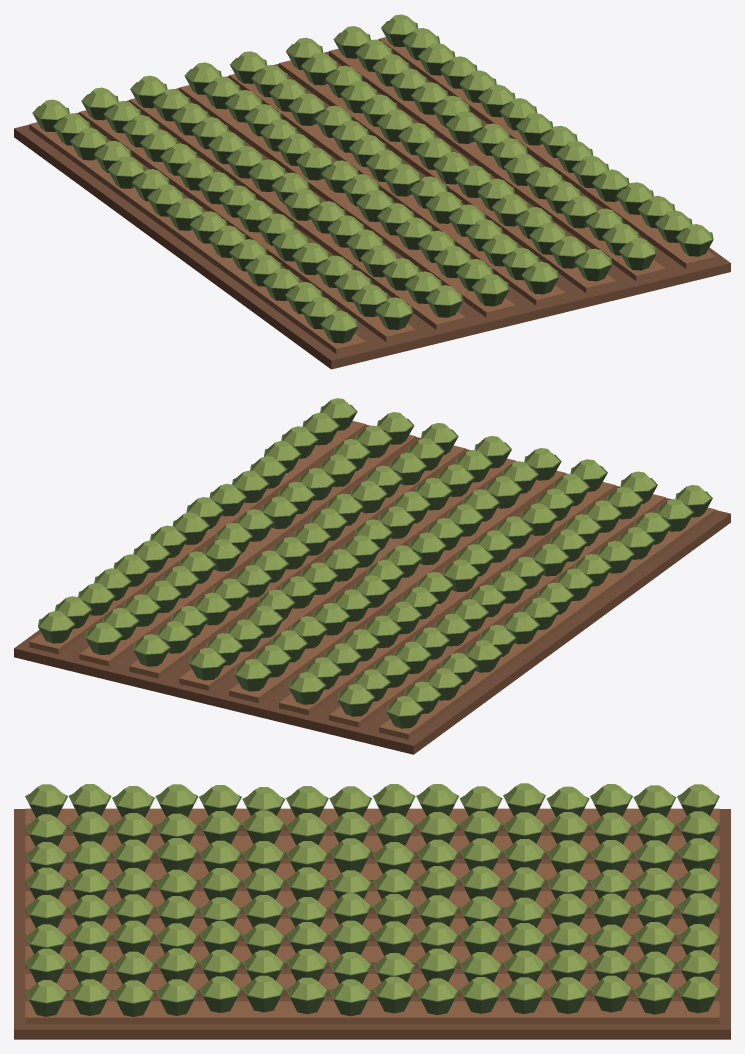
The model's file is field_cabbage.glb.
3 views of the same model, one above another, from view 1: azimuth 30°, elevation 25°; view 2: azimuth 150°, elevation 25°; view 3: azimuth 270°, elevation 25° (orthographic). The views are drawn at different scales.
Parts seen in each view (by area): view 1: field_cabbage; view 2: field_cabbage; view 3: field_cabbage.
Boxes of the visible parts, x1,y1,x2,y2 form: field_cabbage: [14, 14, 730, 369]; field_cabbage: [14, 398, 730, 754]; field_cabbage: [14, 783, 730, 1039].
Bounding box in the file's own units: 8 × 0.75 × 11.
